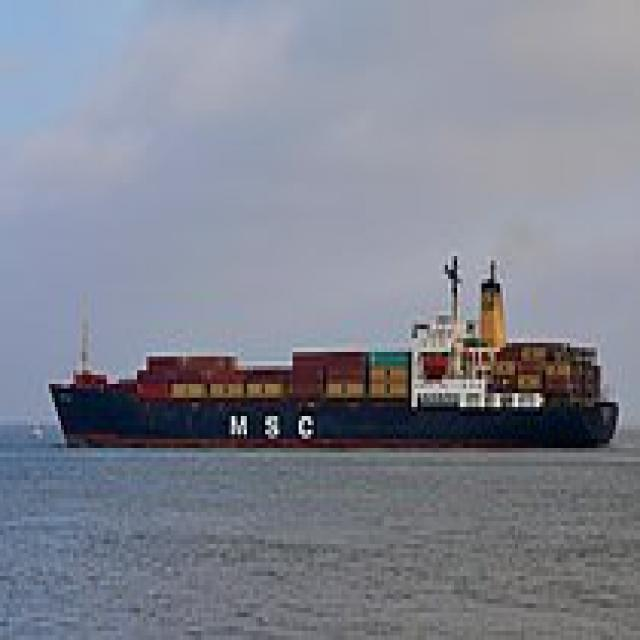Ship: (41, 243, 626, 458)
